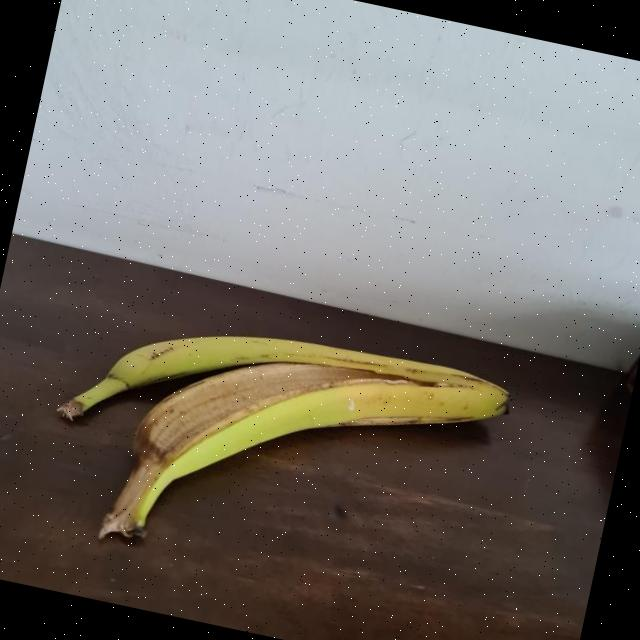banana-peel: (31, 285, 518, 617)
